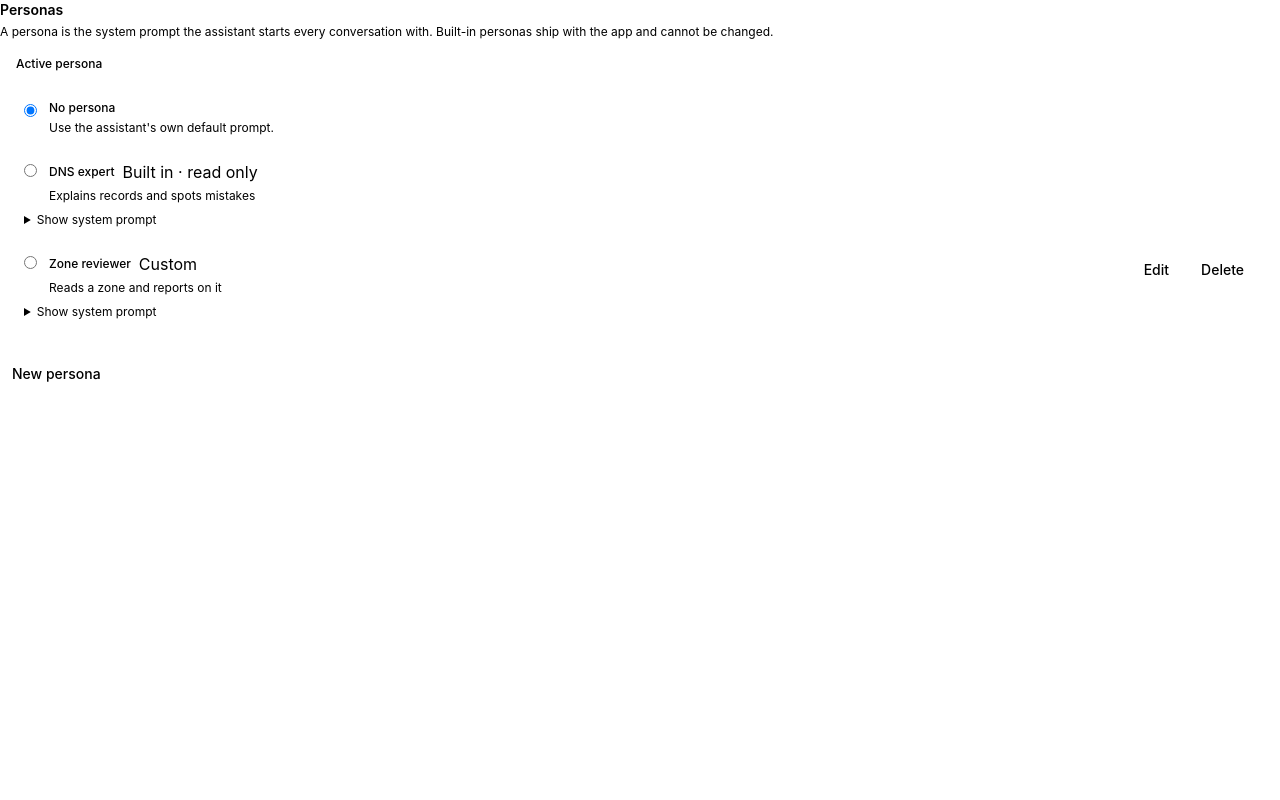
a refused delete surfaces the reason and keeps the persona listed
Click the button "Delete" at (1223, 270), box [1189, 252, 1256, 288]
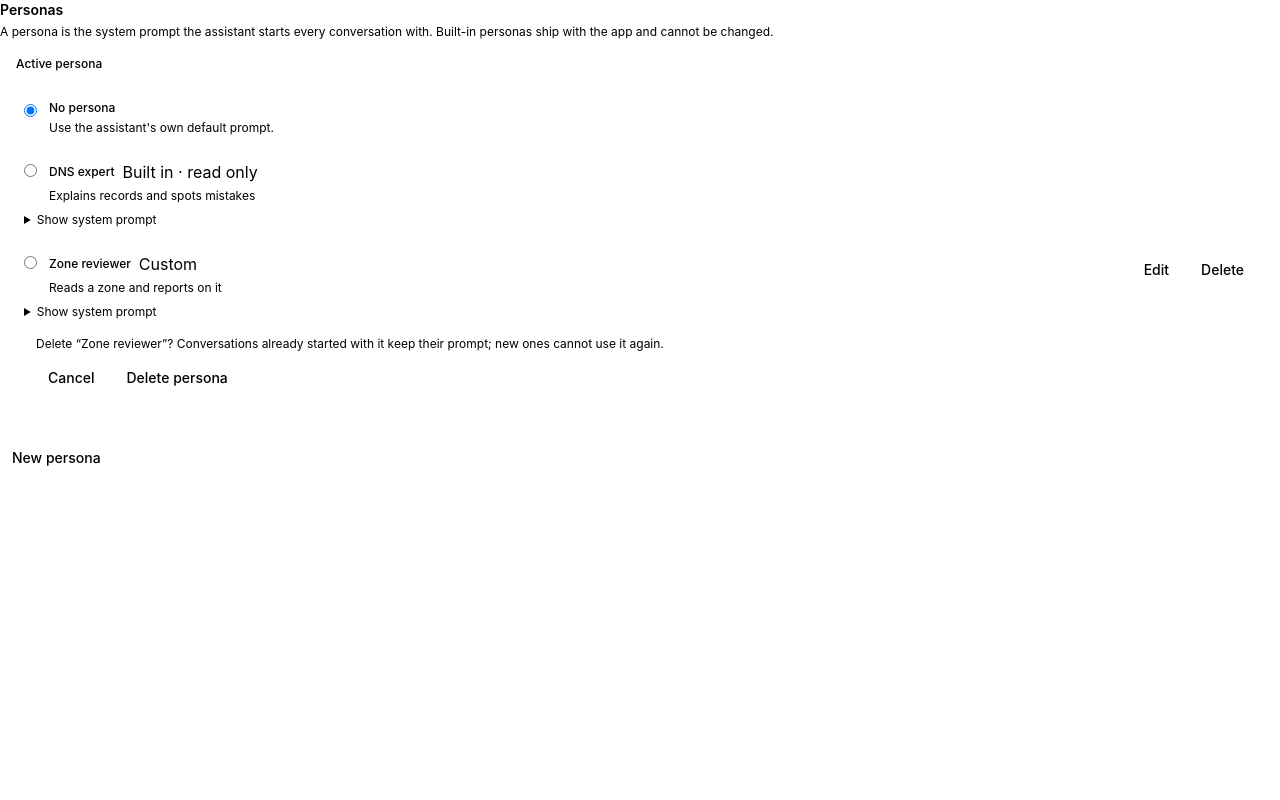
Click the button "Delete persona" at (177, 378), box [114, 360, 240, 396]
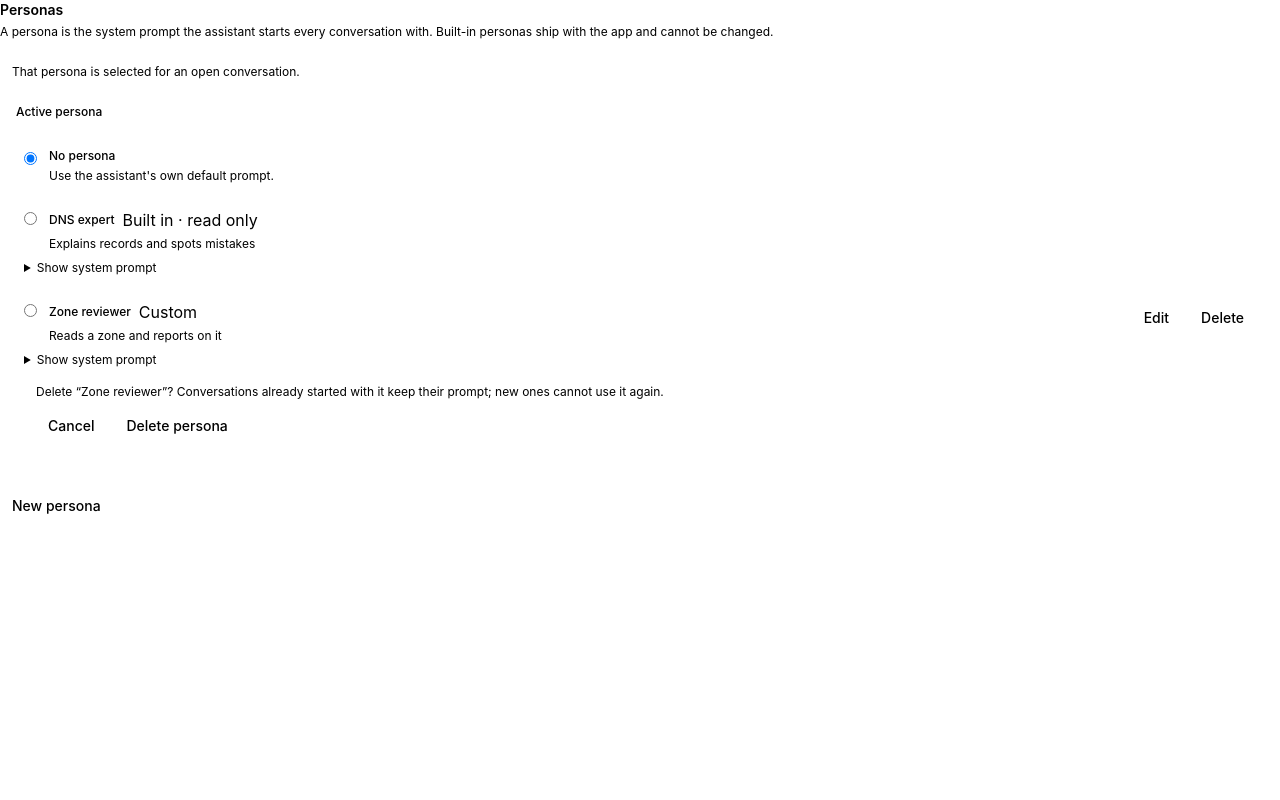
Now the text "That persona is selected for an open conversation." is shown, box [12, 64, 300, 79]
